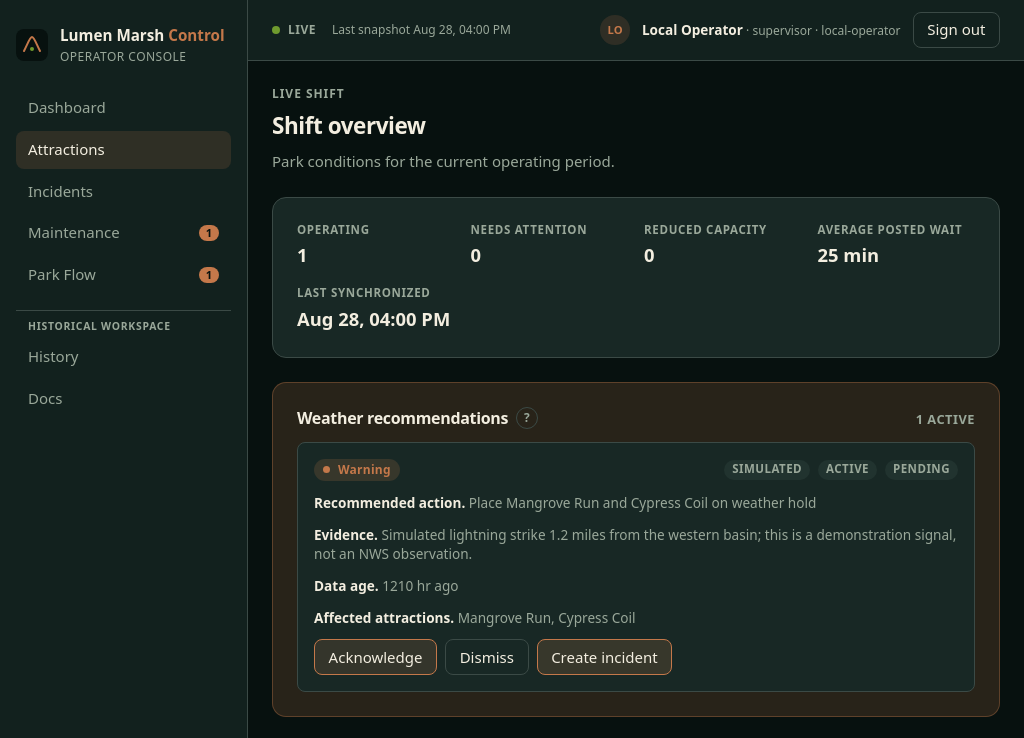
Test: weather recommendations on shift overview › dismisses a recommendation from Control Tower
Click the button "Dismiss" at point(487, 657), box [445,639,529,675]
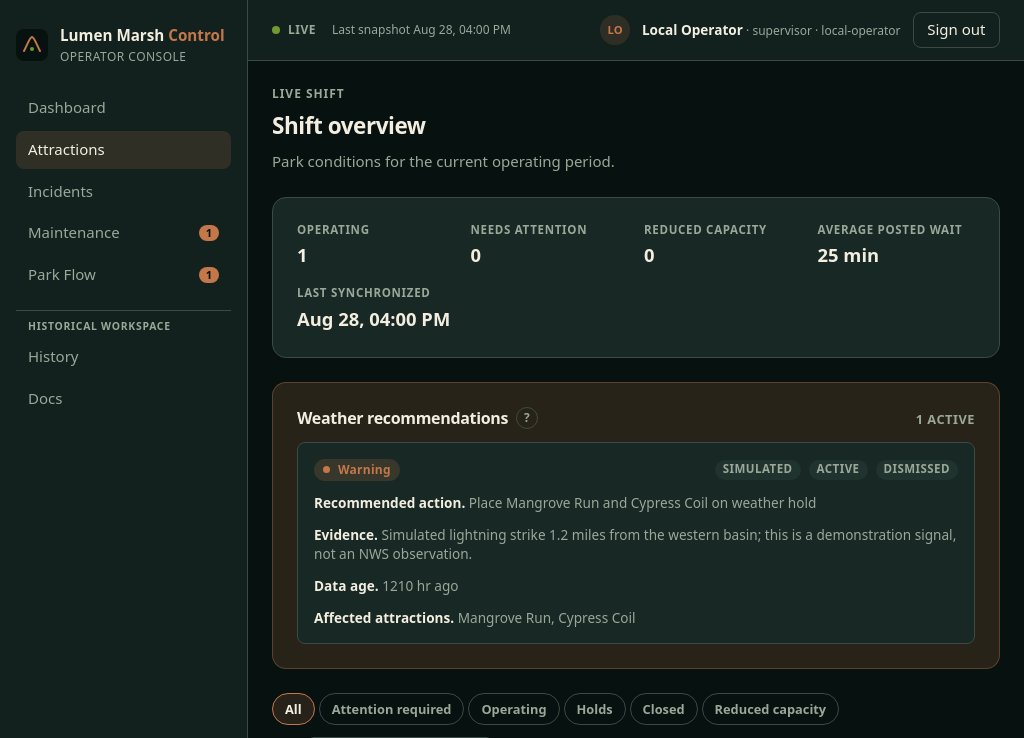
Check: the text "Dismissed" is shown, box [876,460,958,480]
Check: the button "Acknowledge" is gone
Check: the button "Create incident" is gone
